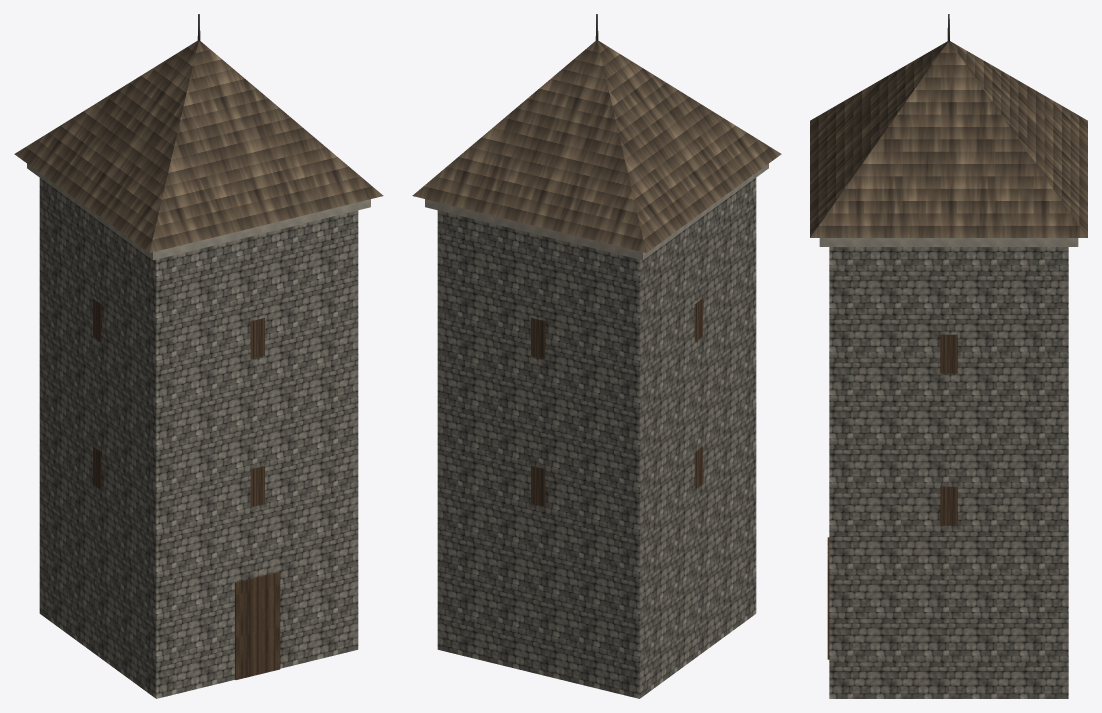
The model's file is Tower_Square_Village_1.gltf.
The picture shows the model from 3 angles, left to right: view 1: azimuth 30°, elevation 25°; view 2: azimuth 150°, elevation 25°; view 3: azimuth 270°, elevation 25°; orthographic projection. The views are drawn at different scales.
Visible parts, largest first — view 1: Tower_Square_Village_1; view 2: Tower_Square_Village_1; view 3: Tower_Square_Village_1.
Boxes of the visible parts, x1=… form: Tower_Square_Village_1: x1=14, y1=14, x2=383, y2=698; Tower_Square_Village_1: x1=412, y1=14, x2=781, y2=698; Tower_Square_Village_1: x1=810, y1=14, x2=1087, y2=698.
Bounding box in the file's own units: 5.8 × 14.6 × 5.8.
5 materials, 5 textured.
